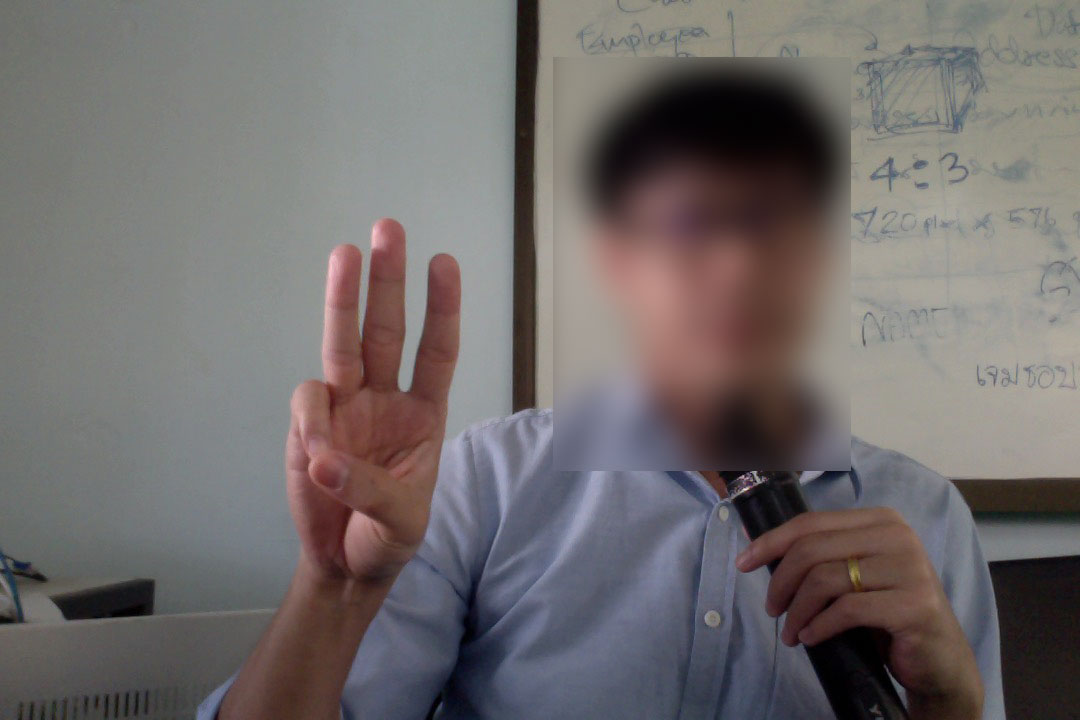wor: (283, 202, 463, 584)
